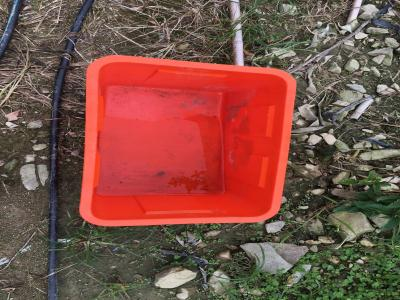box: (76, 52, 298, 230)
